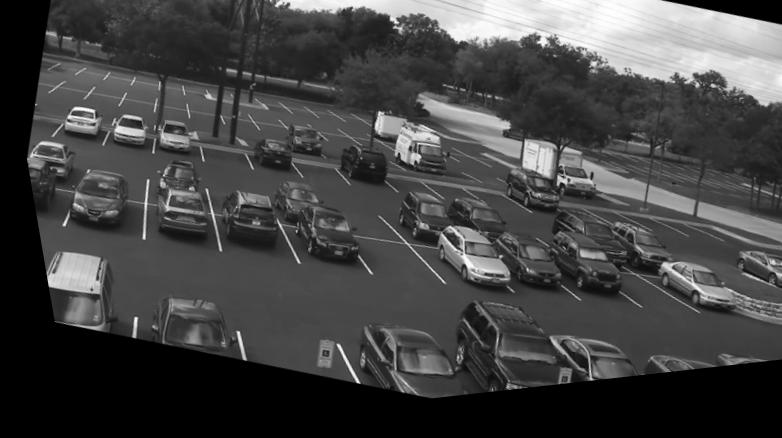empty: (225, 310, 340, 390), (349, 242, 435, 292), (607, 286, 681, 330), (333, 208, 379, 241), (195, 147, 249, 175), (88, 155, 139, 183), (642, 233, 709, 253), (616, 229, 671, 251), (462, 201, 518, 222), (289, 169, 337, 191), (416, 191, 469, 210), (503, 231, 544, 252), (30, 96, 69, 117), (434, 157, 479, 175), (205, 182, 247, 200), (114, 101, 153, 120), (381, 185, 425, 201), (82, 93, 120, 111), (577, 221, 622, 236), (26, 116, 58, 137), (216, 121, 257, 137), (180, 114, 220, 130), (150, 107, 183, 125), (89, 84, 123, 101), (251, 100, 283, 118), (47, 86, 85, 101), (210, 110, 245, 126), (348, 145, 385, 159), (316, 140, 354, 153), (153, 83, 182, 100), (121, 92, 154, 106), (184, 103, 214, 118), (281, 109, 311, 124), (78, 101, 108, 116), (272, 119, 304, 133), (151, 99, 185, 112), (242, 116, 276, 129), (333, 132, 367, 144), (61, 79, 92, 92), (129, 78, 157, 92), (178, 87, 206, 101), (249, 126, 281, 138), (304, 128, 337, 139), (53, 64, 79, 77), (307, 115, 335, 127), (316, 153, 344, 165), (331, 120, 361, 131), (36, 72, 63, 84), (106, 74, 129, 88), (77, 70, 103, 82), (237, 140, 260, 151), (34, 82, 54, 94), (38, 58, 58, 70)
occupied: (433, 309, 558, 402), (334, 332, 454, 407), (36, 249, 113, 335), (416, 235, 498, 296), (141, 295, 215, 361), (537, 243, 610, 308), (533, 346, 621, 394), (480, 243, 554, 299), (282, 209, 349, 270), (209, 193, 272, 255), (645, 277, 722, 327), (63, 168, 124, 231), (497, 179, 556, 228), (433, 206, 497, 251), (386, 131, 439, 185), (149, 188, 200, 243), (603, 235, 658, 283), (544, 224, 611, 262), (388, 201, 442, 248), (726, 267, 782, 311), (331, 153, 380, 202), (21, 155, 56, 214), (266, 187, 311, 230), (23, 142, 69, 176), (59, 107, 98, 142), (246, 144, 283, 179), (281, 130, 319, 162), (153, 123, 186, 156), (108, 117, 141, 149), (154, 164, 187, 193)
